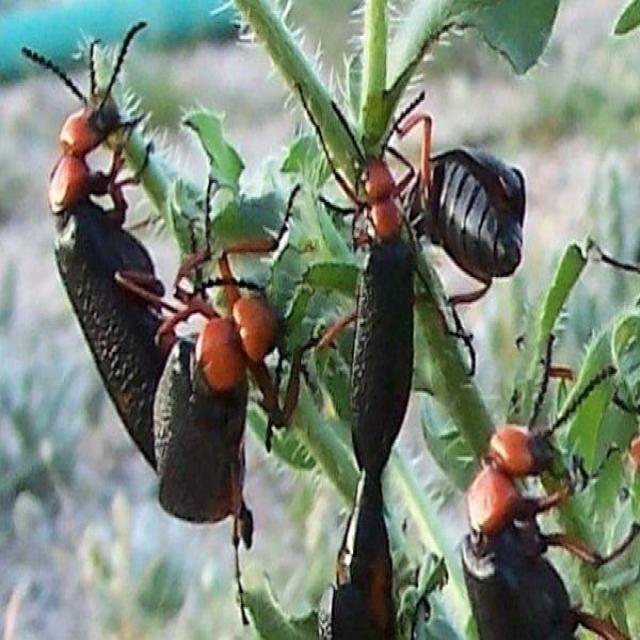BlisterBeetle-Adult-: (19, 19, 189, 483), (319, 81, 430, 485)
